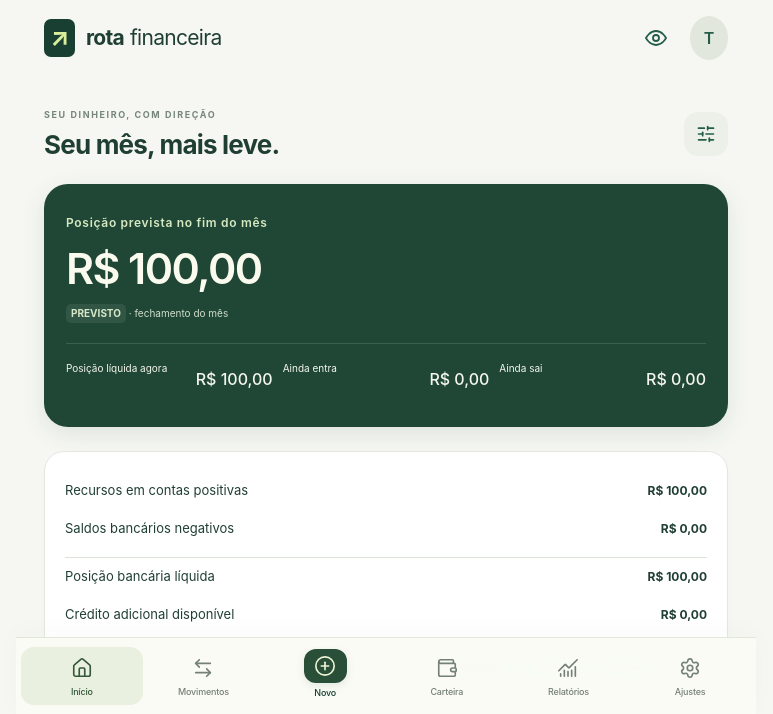
fluxos reais da interface com Supabase isolado de teste › limpar período do histórico não transforma dashboard em total de todos os meses
Check: the text "Posição líquida agora" is shown, box [66,362,167,374]
Click the button "Movimentos": [204, 676] box [143,646,264,705]
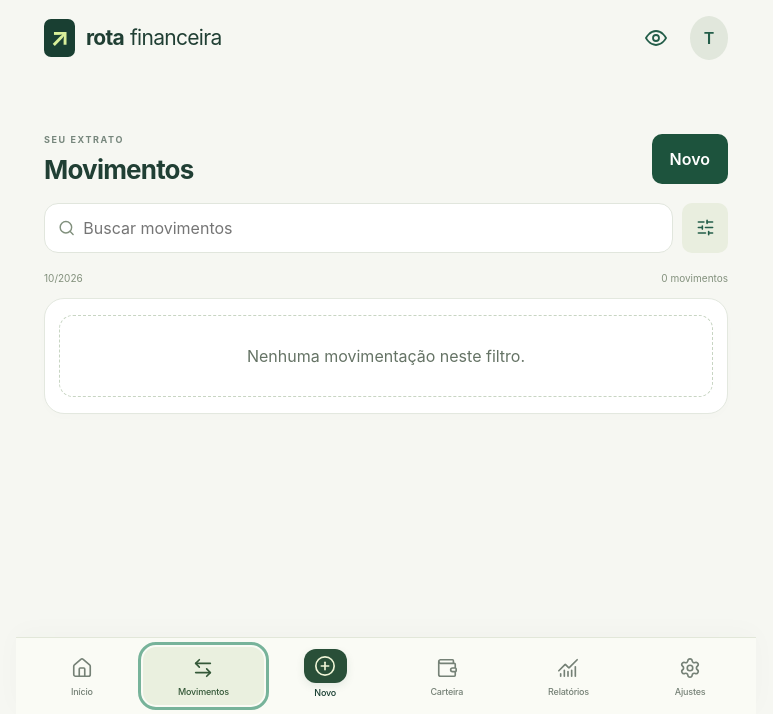
Click the button named "Filtros": [705, 228] box [682,203,728,253]
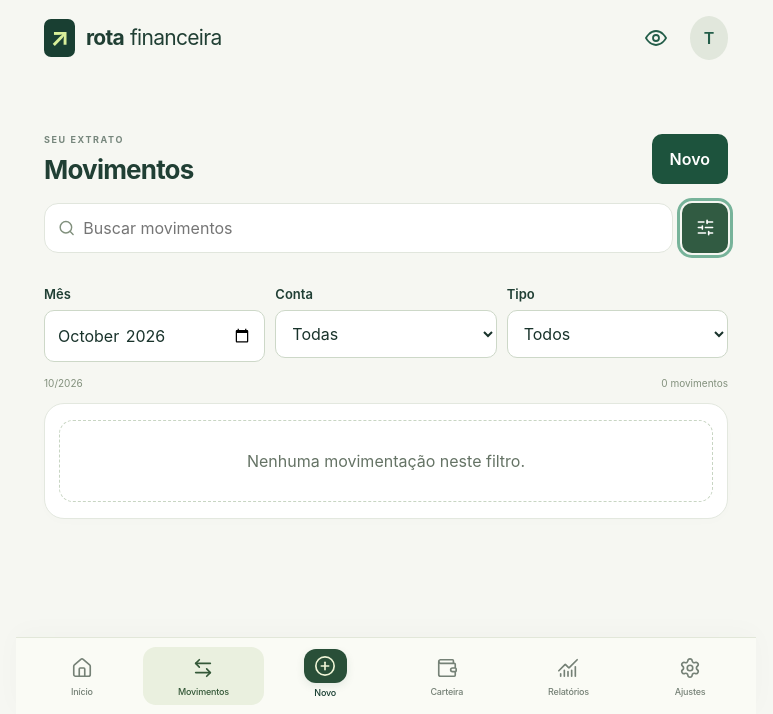
Clear the field labelled "Mês": [155, 336] box [44,310,265,362]
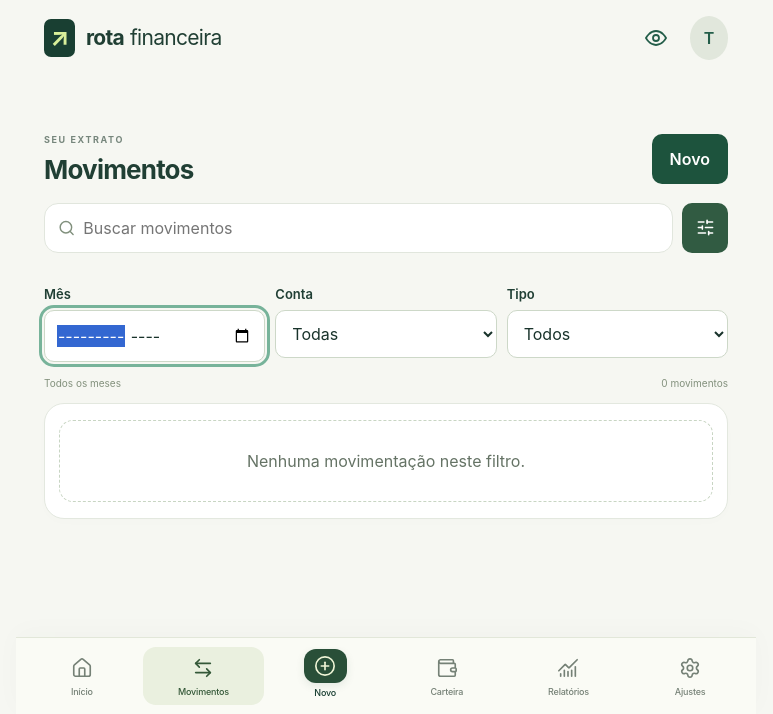
Click the button "Início": [82, 676] box [21,646,143,705]
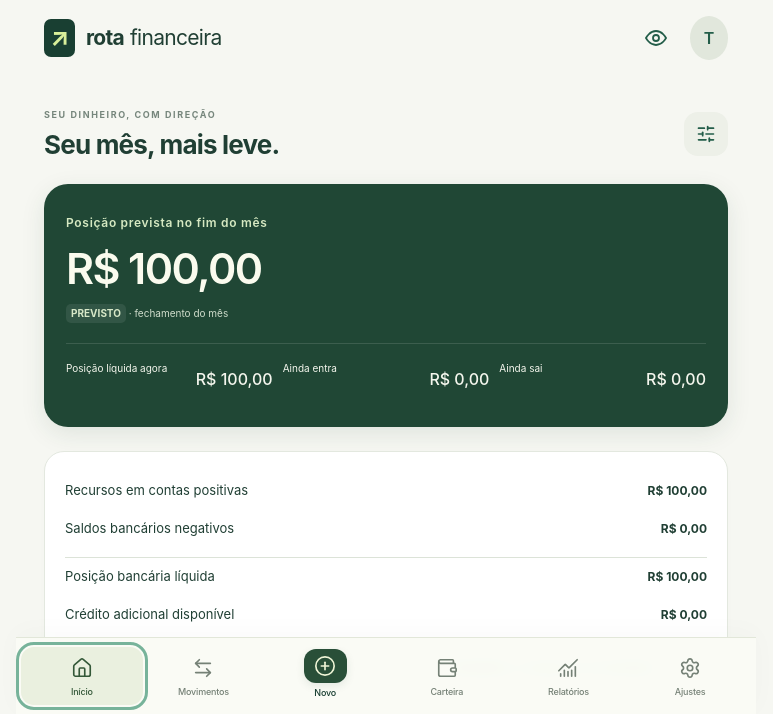
Check: the text "Posição prevista no fim do mês" is shown, box [66,215,268,230]
